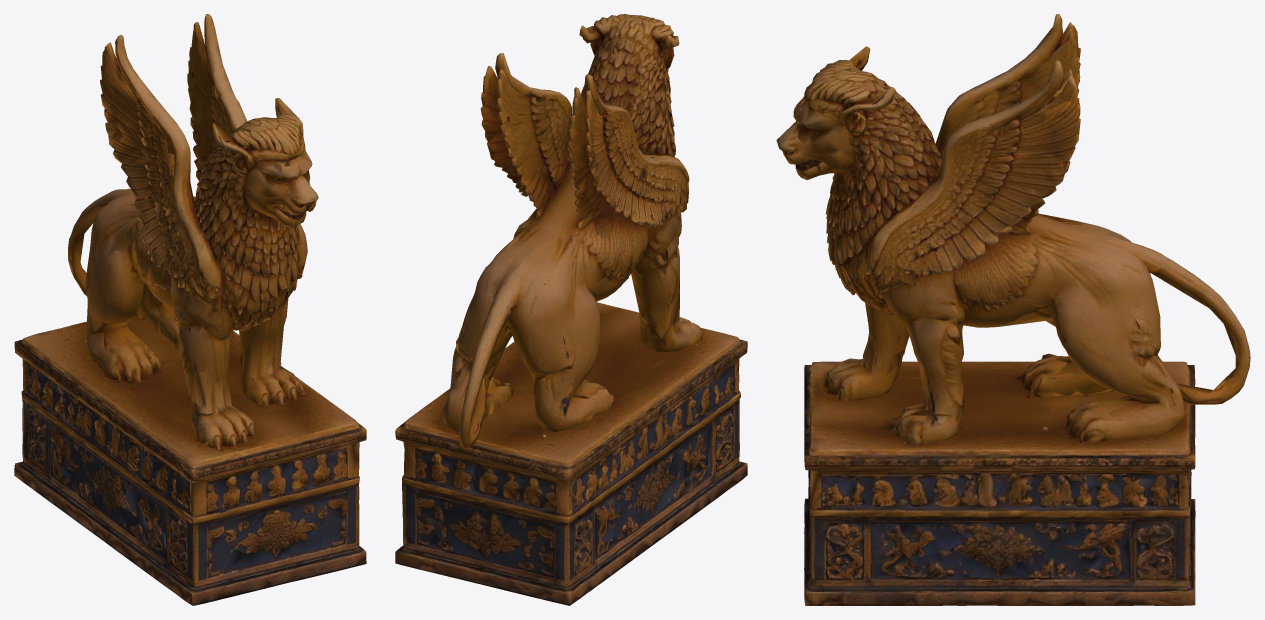
File: road-guardians.glb
3 views of the same model, side by side, from view 1: azimuth 30°, elevation 25°; view 2: azimuth 150°, elevation 25°; view 3: azimuth 270°, elevation 25° (orthographic). The views are drawn at different scales.
Visible parts, largest first — view 1: Winged_Lion, Winged_Lion_Far; view 2: Winged_Lion, Winged_Lion_Far; view 3: Winged_Lion, Winged_Lion_Far.
Part boxes in pixels (box(x1,y1,x2,y2)): Winged_Lion: box(14, 14, 366, 605); Winged_Lion_Far: box(14, 15, 366, 605); Winged_Lion: box(395, 14, 747, 605); Winged_Lion_Far: box(397, 15, 746, 604); Winged_Lion: box(776, 14, 1250, 605); Winged_Lion_Far: box(781, 15, 1243, 605).
Size of the model in its own units: 0.3852 by 0.9993 by 0.8227.
1 material, 1 textured.
